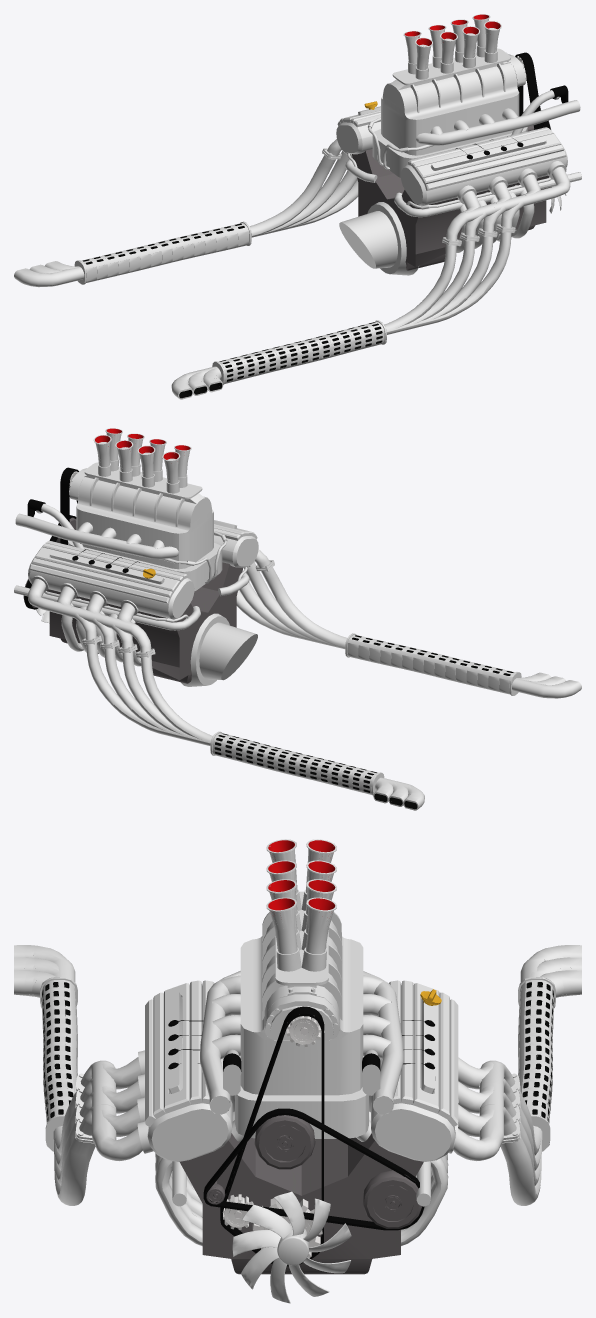
File: eng-v8-57-sb.glb
3 renders of one model, top to bottom at view 1: azimuth 30°, elevation 25°; view 2: azimuth 150°, elevation 25°; view 3: azimuth 270°, elevation 25°, orthographic. The views are drawn at different scales.
Visible parts, largest first — view 1: Cube_Chrome.001_0; view 2: Cube_Chrome.001_0; view 3: Cube_Chrome.001_0, Fan.004_Chrome.001_0.
Boxes of the visible parts, x1=… form: Cube_Chrome.001_0: x1=14, y1=14, x2=581, y2=399; Cube_Chrome.001_0: x1=14, y1=428, x2=581, y2=810; Cube_Chrome.001_0: x1=14, y1=839, x2=581, y2=1274; Fan.004_Chrome.001_0: x1=232, y1=1191, x2=351, y2=1303.
Bounding box in the file's own units: 1.45 × 0.6954 × 0.8993.
Materials: 2 (2 with a texture image).
